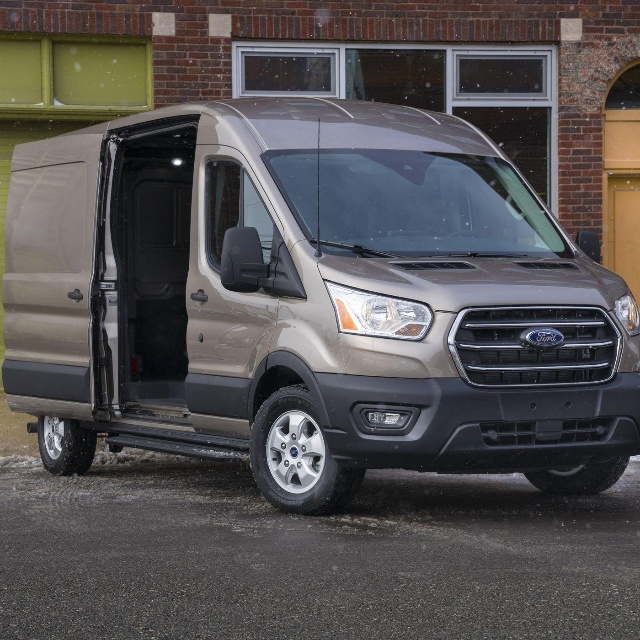Van: (4, 96, 640, 516)
